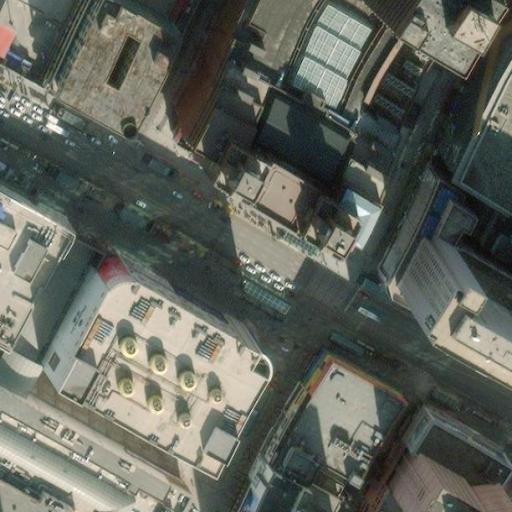building: (169, 35, 401, 242), (31, 246, 254, 458), (236, 351, 405, 512), (367, 226, 512, 371), (191, 111, 342, 240), (403, 182, 512, 318), (366, 403, 499, 512), (33, 0, 167, 106), (438, 29, 512, 202), (286, 0, 392, 95), (232, 0, 322, 65), (380, 435, 459, 478), (410, 462, 477, 503)
